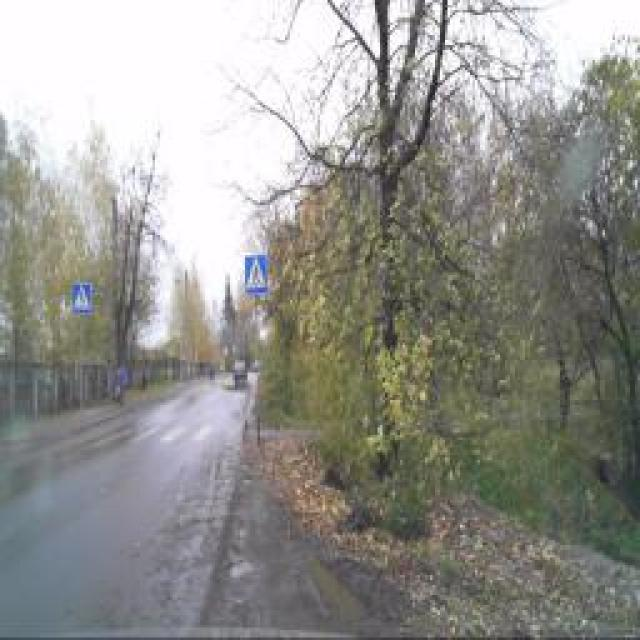sign: (244, 254, 268, 296), (72, 282, 92, 316)
